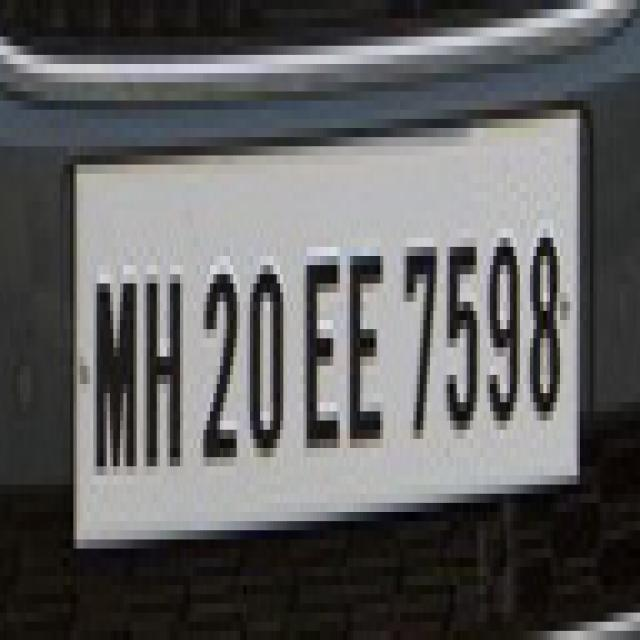0: (246, 248, 291, 475)
5: (442, 220, 484, 464)
7: (400, 215, 439, 466)
8: (527, 218, 561, 438)
9: (485, 226, 525, 450)
E: (344, 243, 390, 461), (300, 247, 343, 478)
H: (144, 243, 186, 489)
M: (90, 252, 141, 488)
